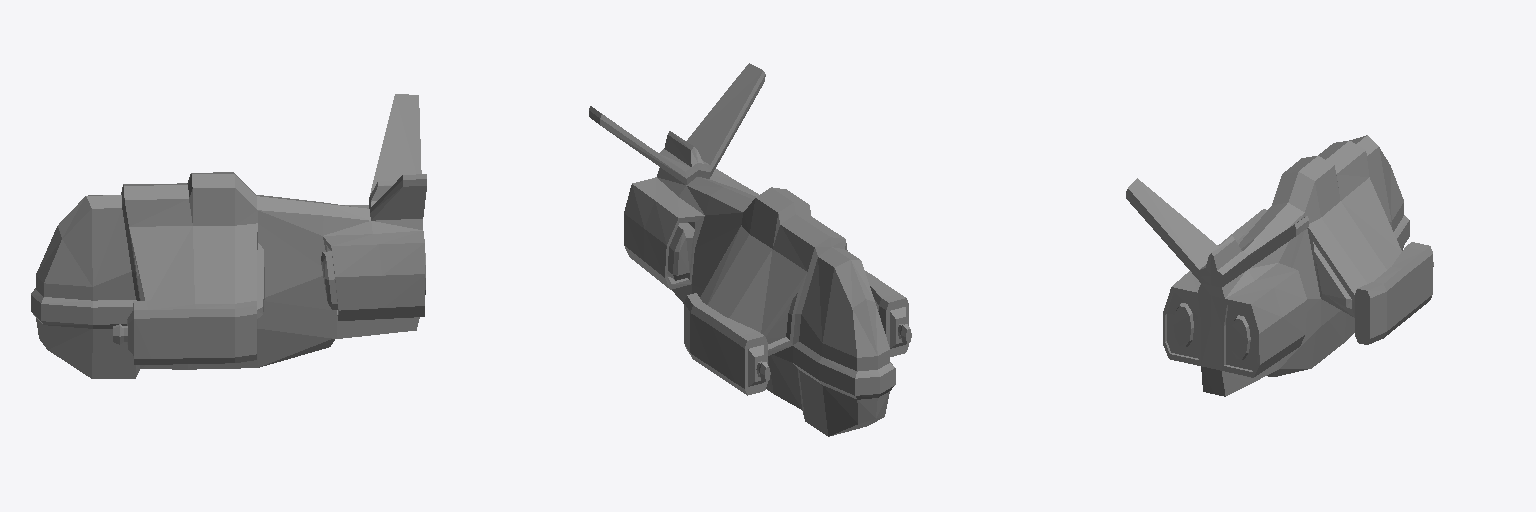
Rendered from jap_spaceship.obj.
3 views of the same model, side by side, from view 1: azimuth 30°, elevation 25°; view 2: azimuth 150°, elevation 25°; view 3: azimuth 270°, elevation 25° (orthographic).
Parts seen in each view (by area): view 1: Trident_Space_Fighter; view 2: Trident_Space_Fighter; view 3: Trident_Space_Fighter.
Part boxes in pixels (bbox=[...]): Trident_Space_Fighter: bbox=[31, 94, 426, 378]; Trident_Space_Fighter: bbox=[589, 63, 911, 436]; Trident_Space_Fighter: bbox=[1126, 135, 1433, 396].
Bounding box in the file's own units: 1.57 × 1 × 1.22.